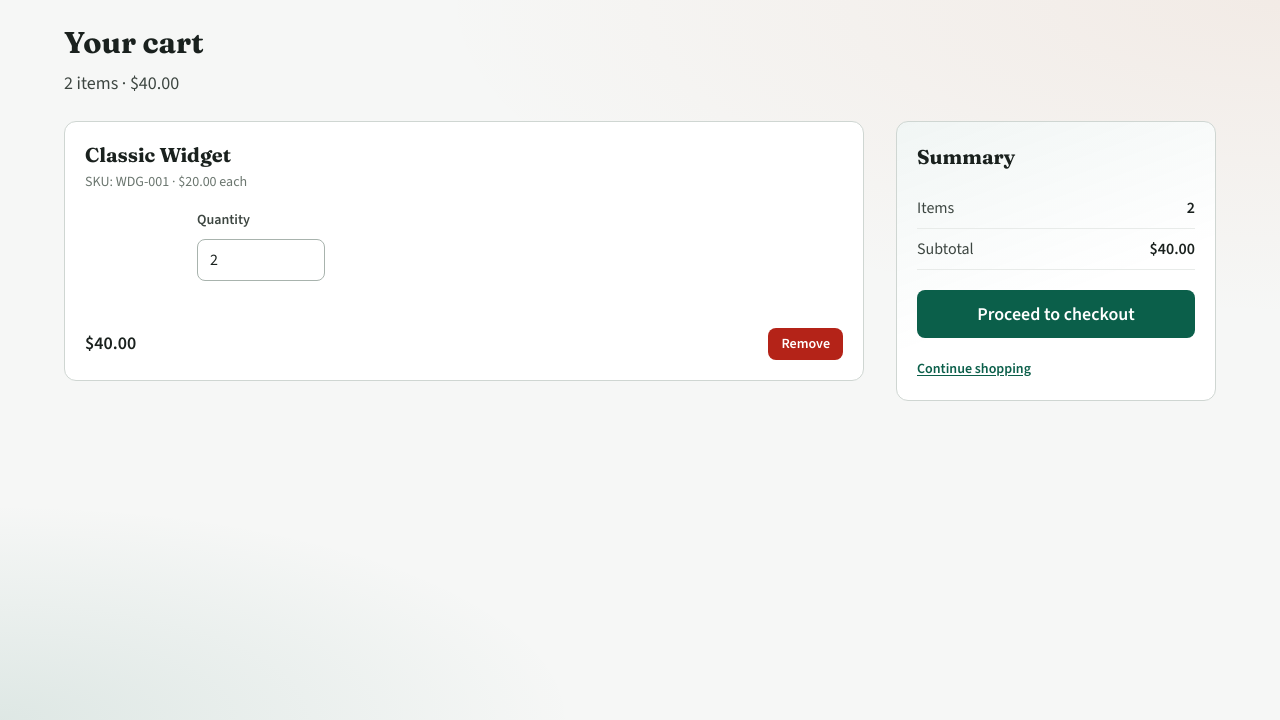
Test: CartPage › renders line items and updates totals when quantity changes
Expected: the text "2 items · $40.00" is shown, [64,70,179,94]
Click the number field named "quantity for classic widget" at (261, 260), box [197,239,325,281]
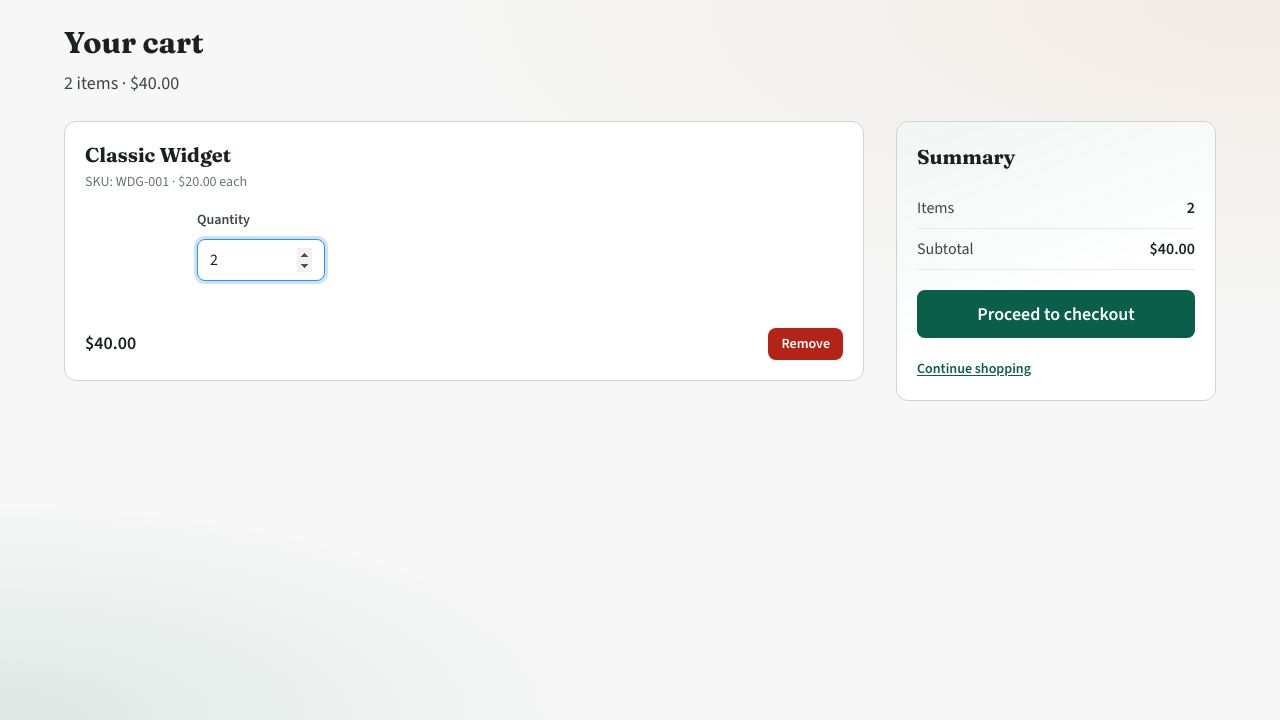
Type keys "{Control>}a{/Control}{4}"
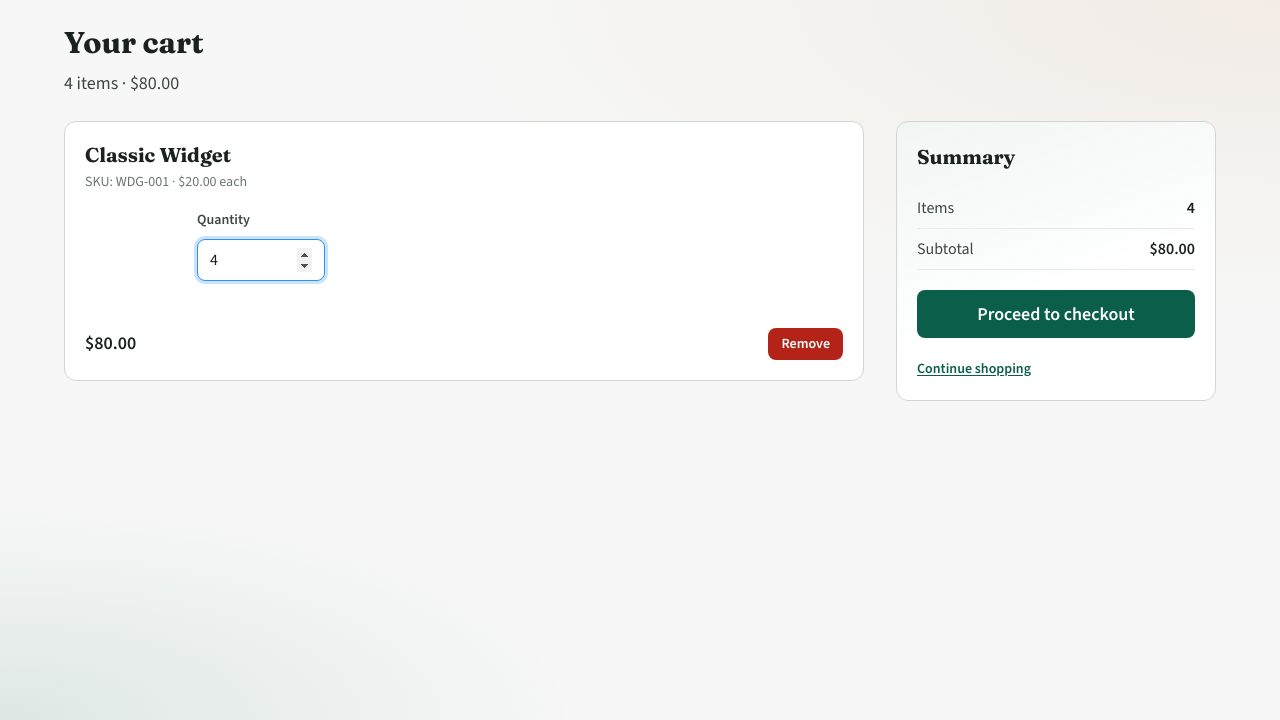
Expected: the text "4 items · $80.00" is shown, [64,70,179,94]
